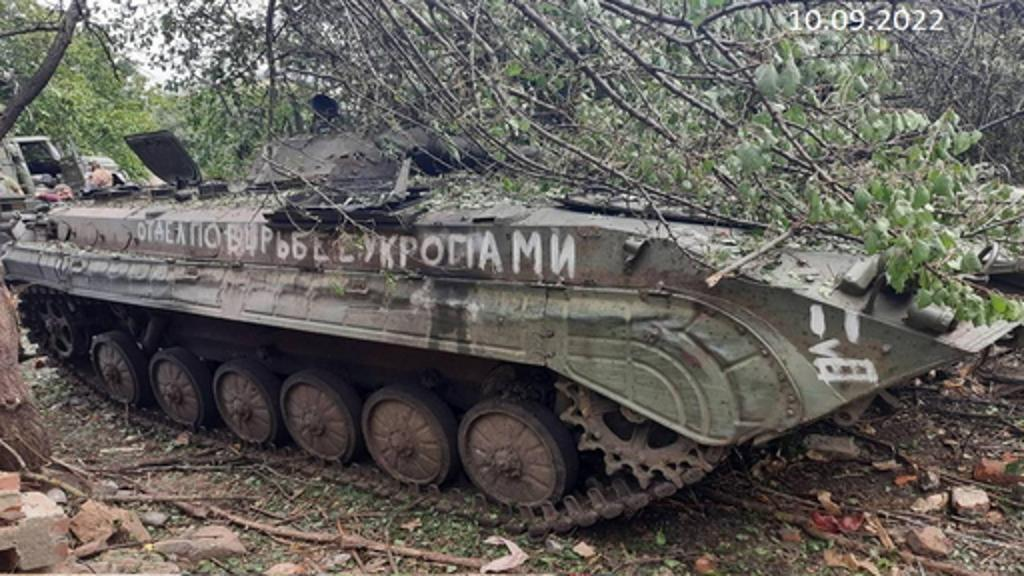APC-IFV: (0, 118, 1020, 532)
